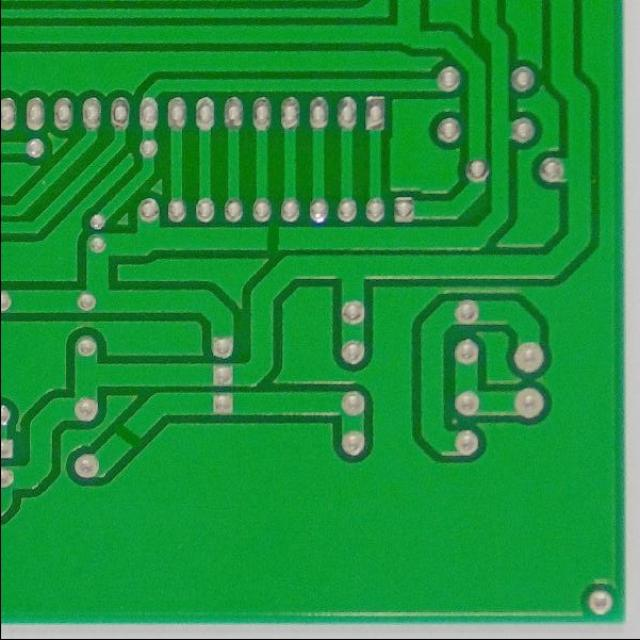open_circuit: (103, 413, 147, 460), (256, 224, 288, 256)
